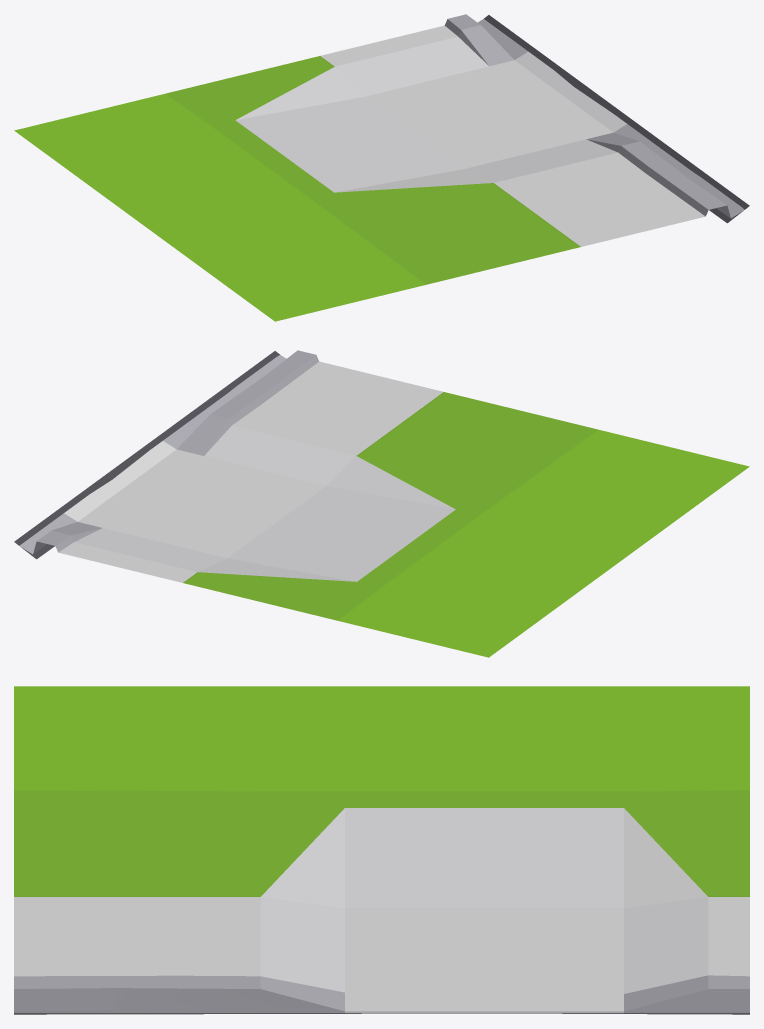
File: sidewalk_default_car.fbx
The picture shows the model from 3 angles, top to bottom: view 1: azimuth 30°, elevation 25°; view 2: azimuth 150°, elevation 25°; view 3: azimuth 270°, elevation 25°; orthographic projection. The views are drawn at different scales.
Parts seen in each view (by area): view 1: sidewalk_default_car; view 2: sidewalk_default_car; view 3: sidewalk_default_car.
Boxes of the visible parts, left/top/right/bottom form: sidewalk_default_car: left=14, top=14, right=749, bottom=321; sidewalk_default_car: left=14, top=350, right=749, bottom=657; sidewalk_default_car: left=14, top=686, right=749, bottom=1014.
Bounding box in the file's own units: 1050 × 38.18 × 1000.
